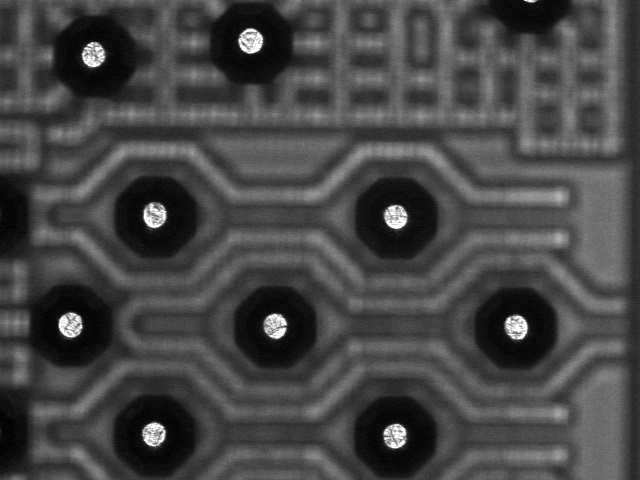normal: (346, 171, 444, 265), (105, 170, 207, 260), (20, 279, 118, 372), (104, 387, 202, 480), (225, 281, 323, 374), (346, 387, 444, 480), (464, 281, 562, 374), (47, 11, 145, 100), (202, 1, 298, 86)
